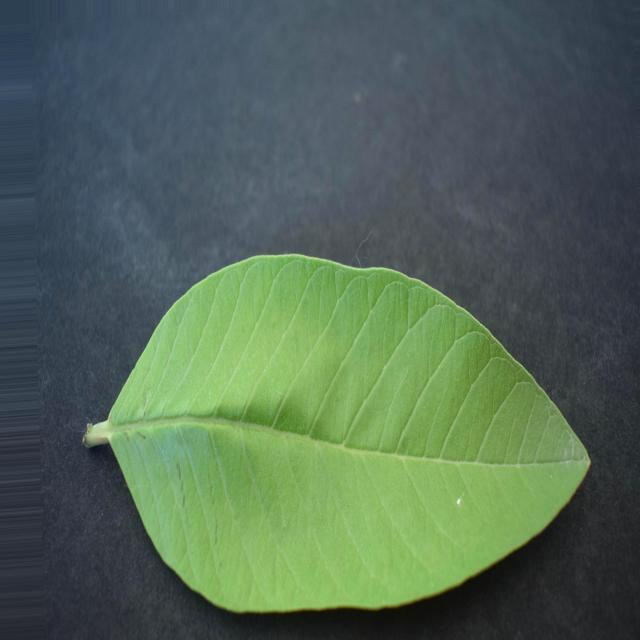Healthy: (84, 255, 589, 611)
